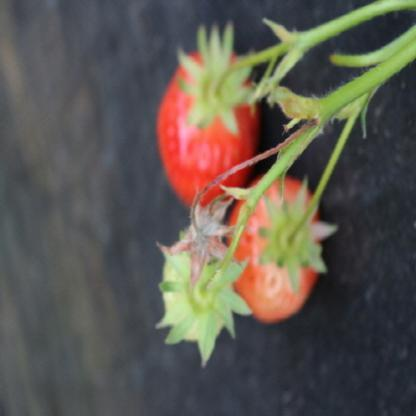Strawberry_Gray_Mold: (156, 192, 238, 286)
